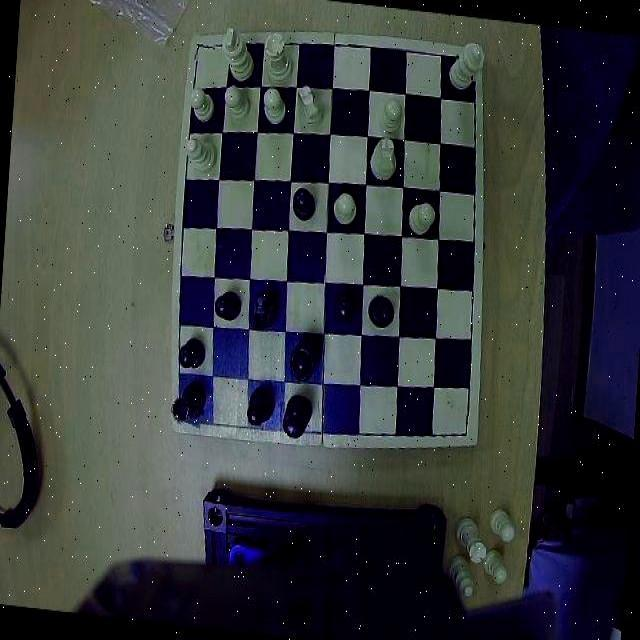chess-table-corners: (170, 399, 203, 432), (444, 412, 476, 444), (454, 49, 484, 82), (188, 34, 216, 65)
